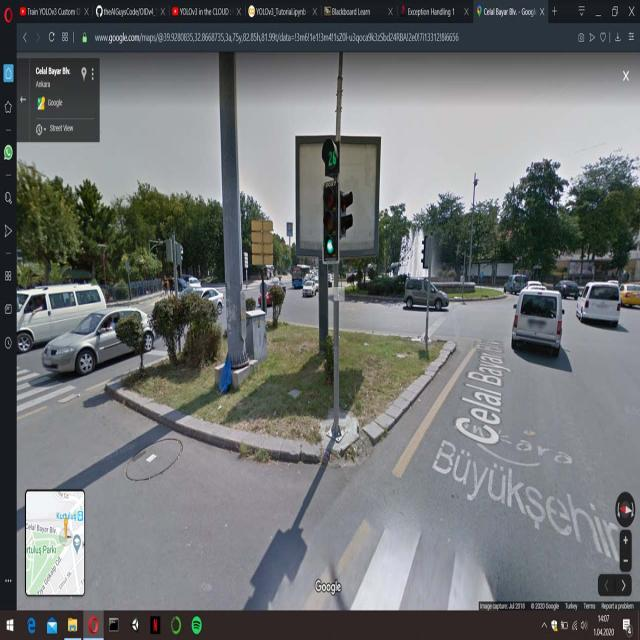yesil: (324, 182, 338, 258)
